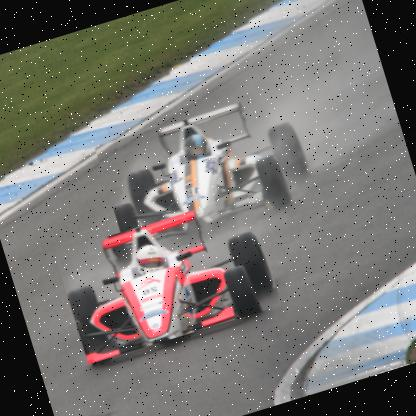Car: (53, 193, 282, 364), (94, 88, 318, 255)
